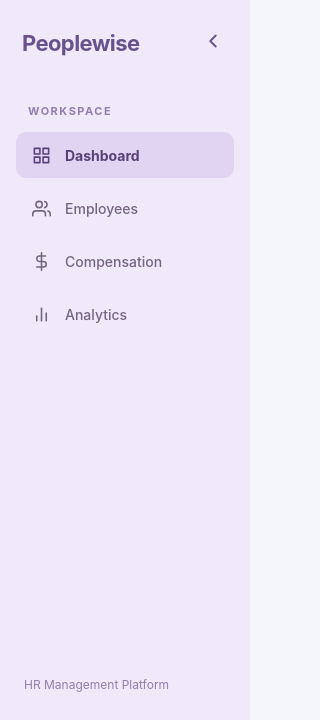
it: Sidebar › collapses the sidebar when the toggle is clicked
The width and height of the screenshot is (320, 720).
What coordinates should you click on to do the following:
click the button named "Collapse sidebar"
I would click on:
 (212, 43)
Its box is 196,27 -> 228,59.
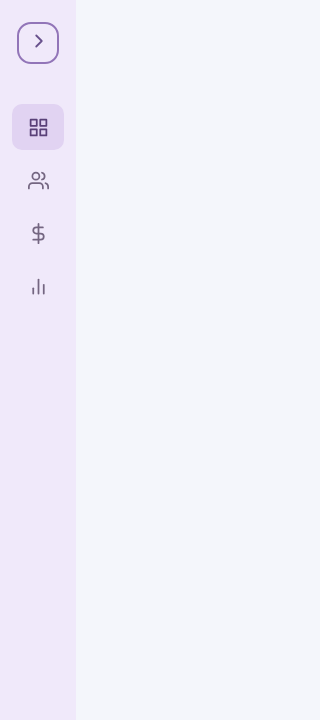
Expected: the button named "Expand sidebar" is shown, 22,27 -> 54,59
Expected: the heading "Peoplewise" is gone
Expected: the text "WORKSPACE" is gone
